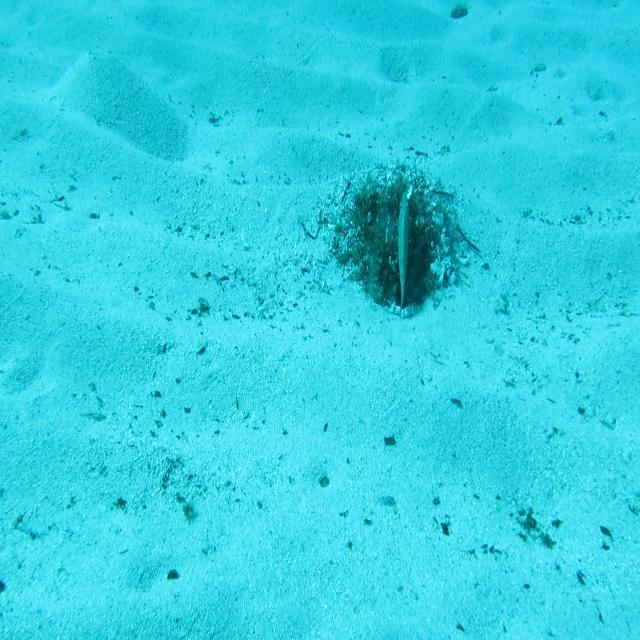FAN: (393, 184, 417, 315)
nest: (334, 164, 471, 323)
